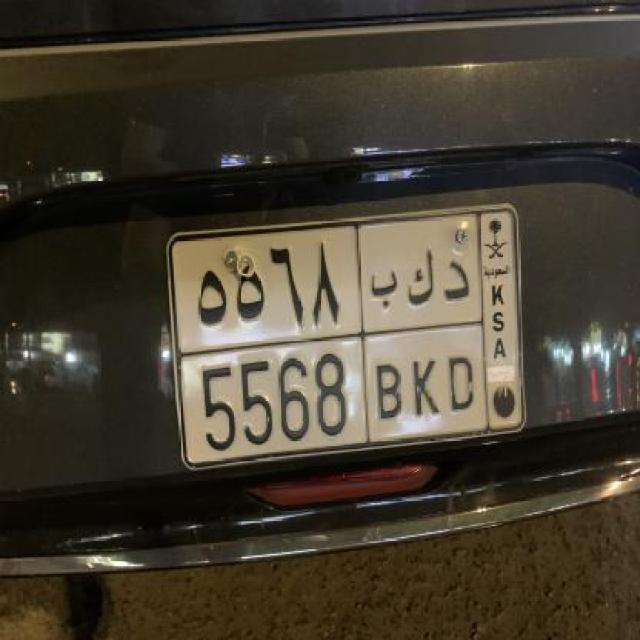license_plate: (163, 198, 528, 474)
